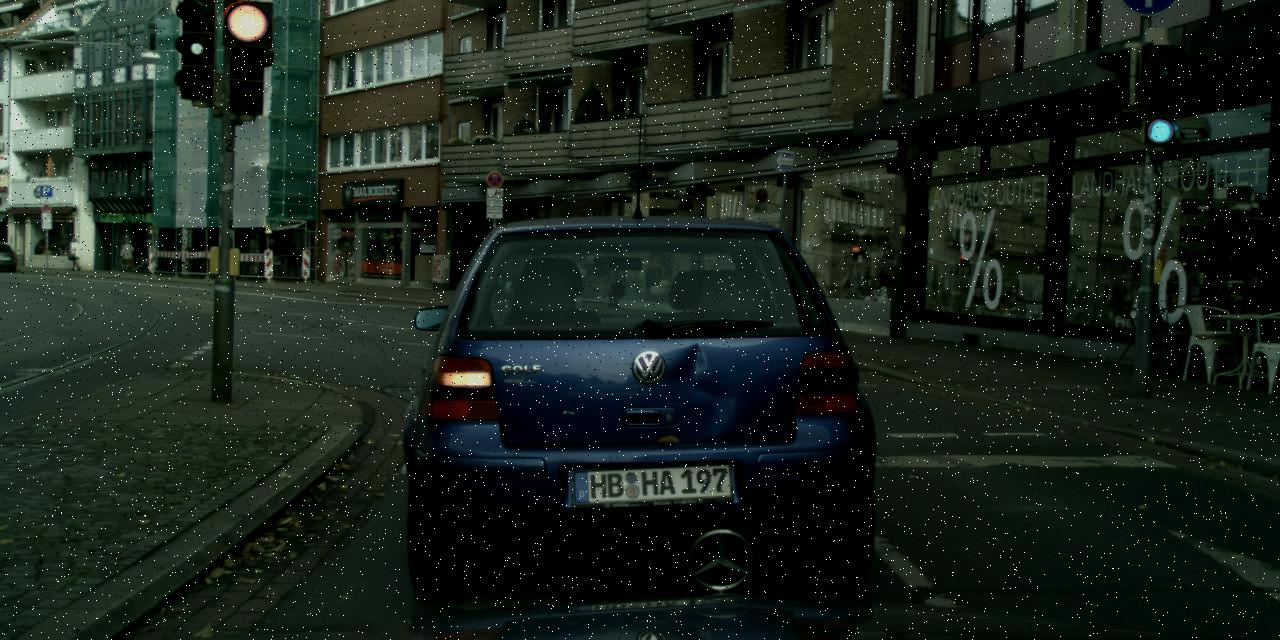ped: (68, 237, 81, 269), (120, 240, 132, 272)
